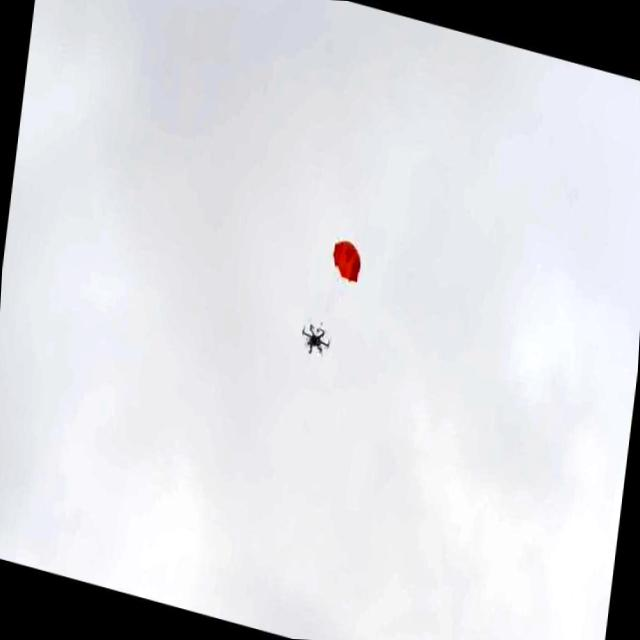drone: (294, 313, 336, 366)
